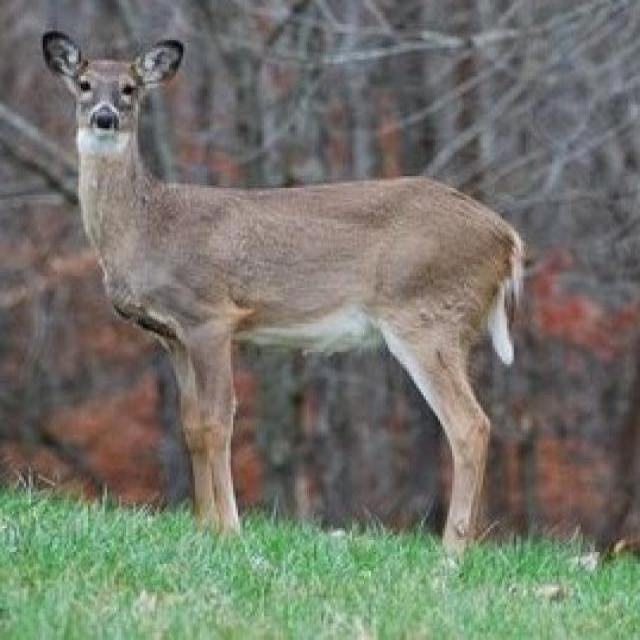deer: (42, 30, 524, 558)
